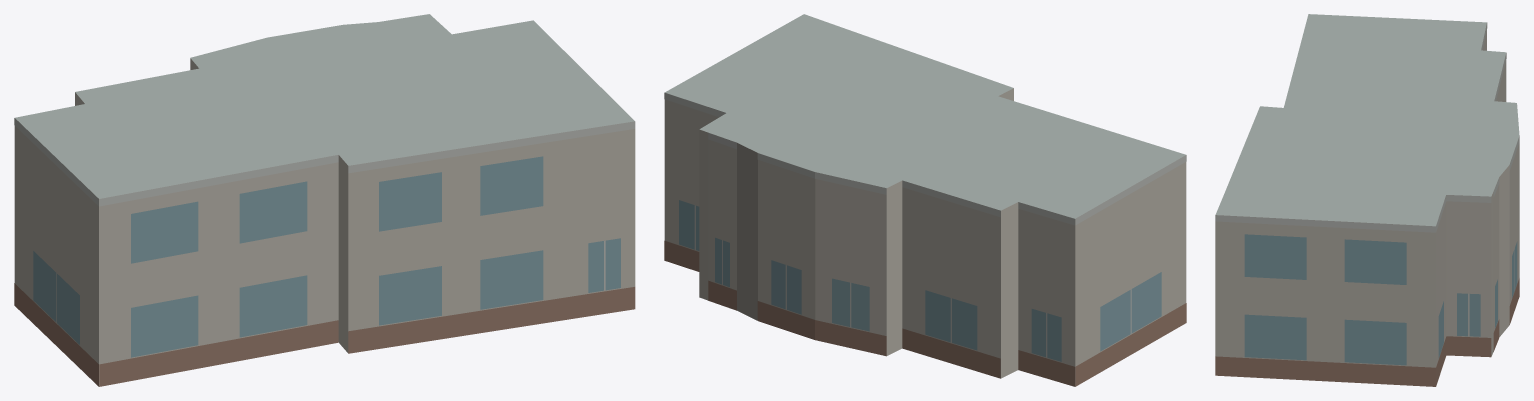
File: survey-upis-32869534.glb
3 renders of one model, left to right at view 1: azimuth 30°, elevation 25°; view 2: azimuth 150°, elevation 25°; view 3: azimuth 270°, elevation 25°, orthographic. The views are drawn at different scales.
Visible parts, largest first — view 1: survey-upis-32869534.tmp; view 2: survey-upis-32869534.tmp; view 3: survey-upis-32869534.tmp.
Boxes of the visible parts, x1,y1,x2,y2 form: survey-upis-32869534.tmp: [14, 14, 635, 386]; survey-upis-32869534.tmp: [664, 14, 1186, 386]; survey-upis-32869534.tmp: [1215, 14, 1519, 386].
Size of the model in its own units: 17.31 by 6.1 by 10.48.
